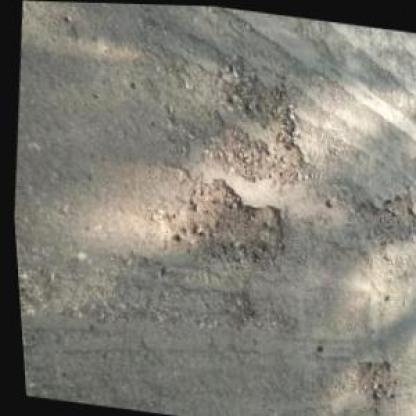pothole: (148, 166, 290, 276), (212, 60, 301, 138), (206, 122, 306, 189), (342, 179, 414, 249), (342, 350, 390, 414)
